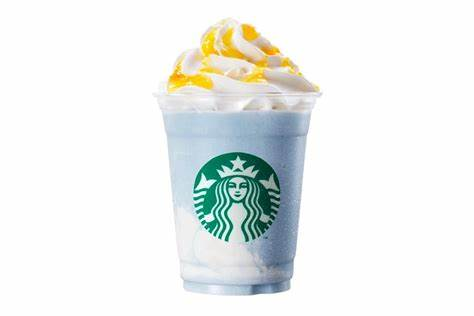starbucks Originale: (186, 144, 292, 248)
